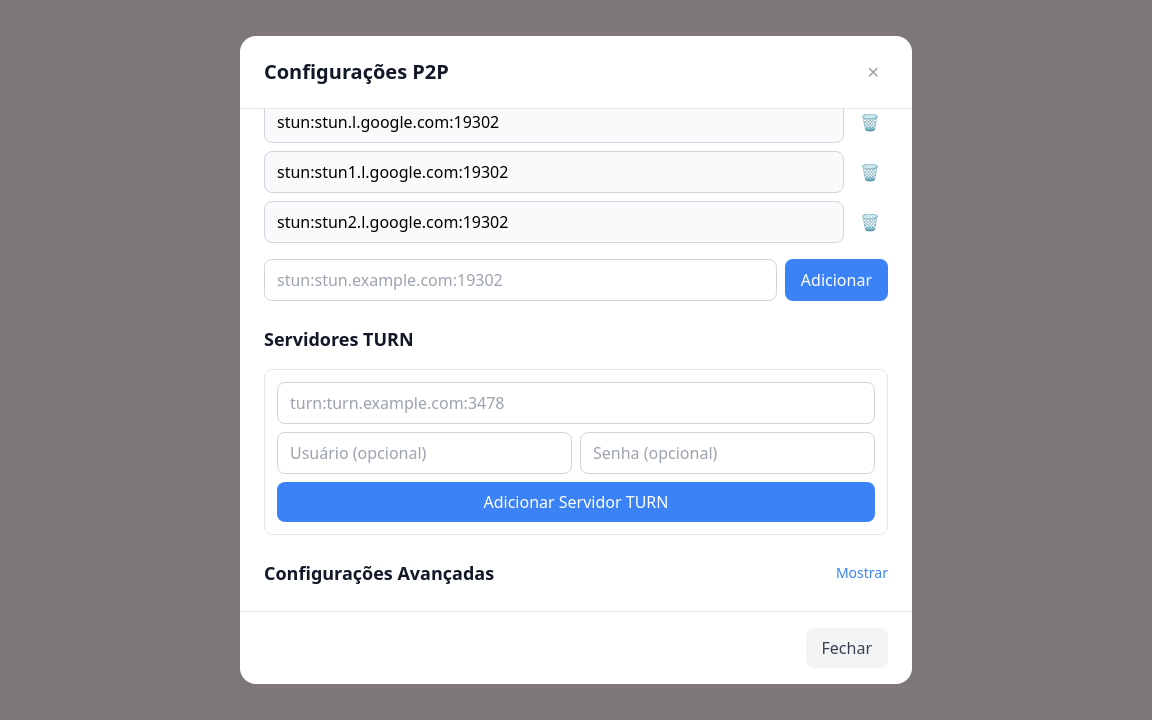
P2P Browser Compatibility › allows configuration of TURN servers for NAT traversal
(page scrolled)
Type "turn:relay.example.com:3478" into the field with placeholder "turn:turn.example.com:3478" at (576, 403), box [277,382,875,424]
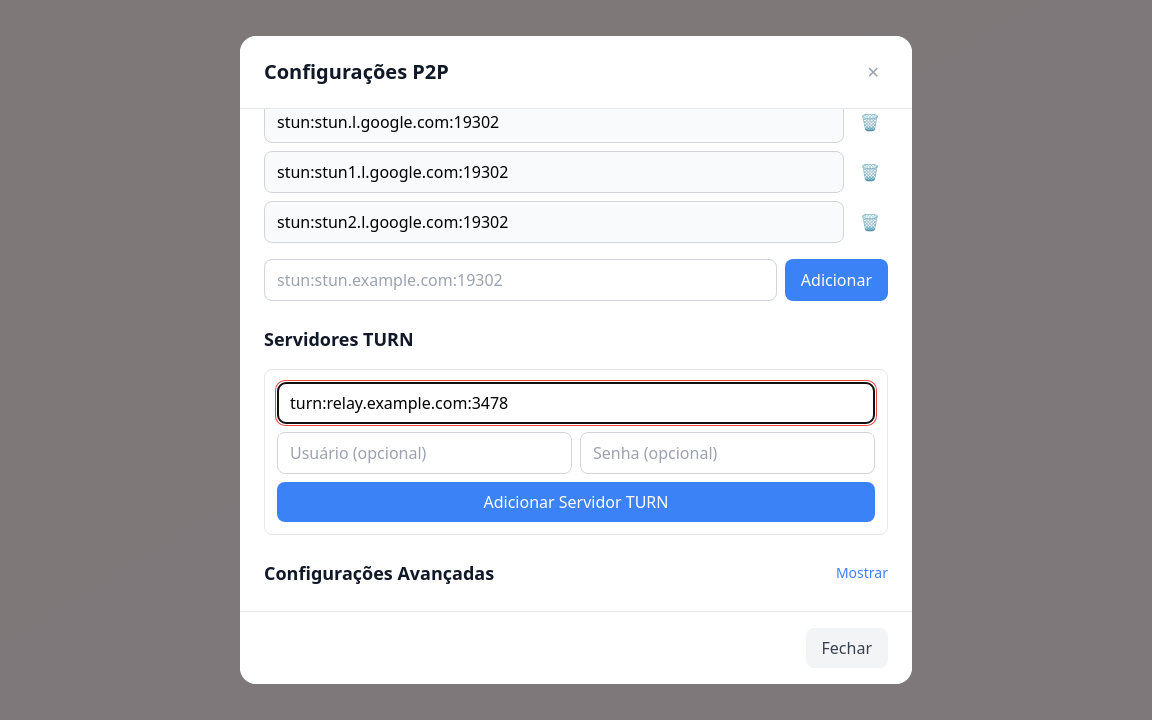
Type "testuser" into the field with placeholder "Usuário (opcional)" at (424, 453), box [277,432,572,474]
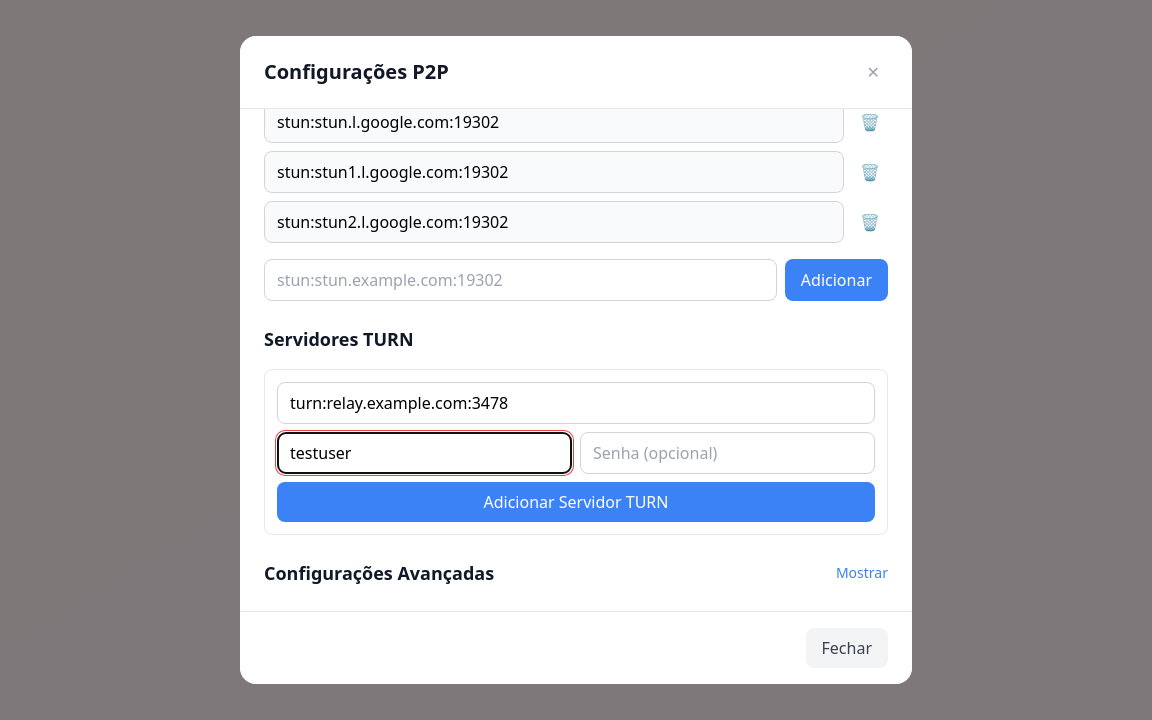
Click the button "Adicionar Servidor TURN" at (576, 502), box [277,482,875,522]
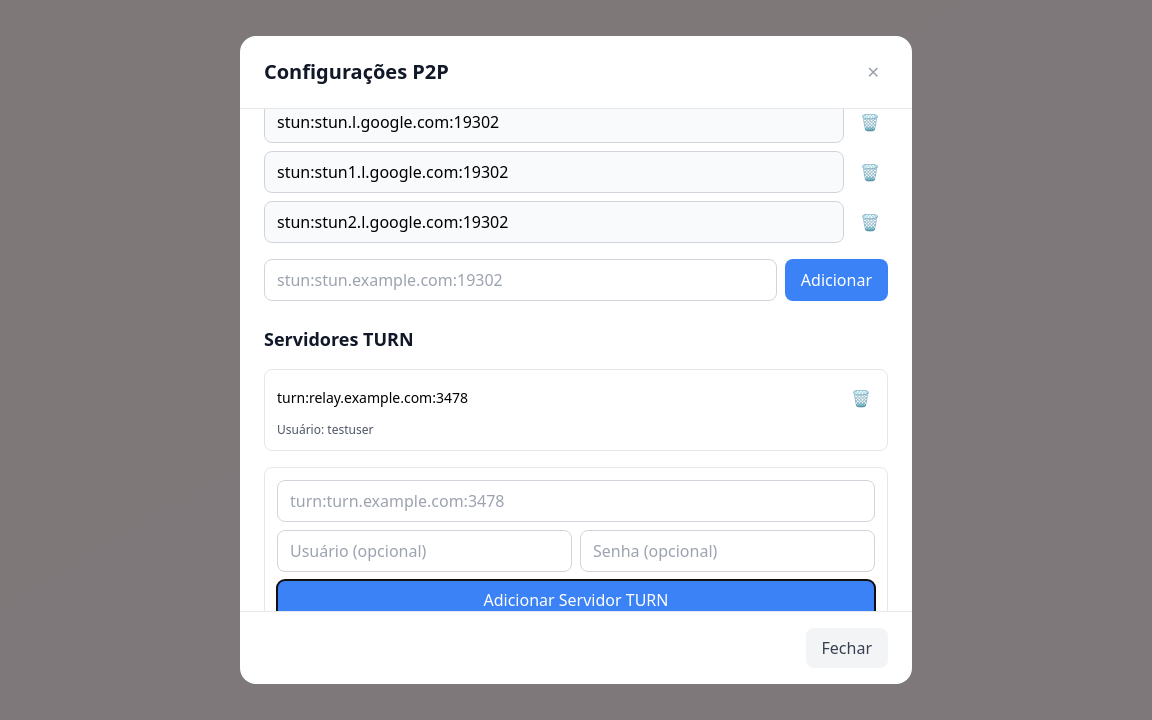
Check: the text "turn:relay.example.com:3478" is shown, box [277,388,468,408]
Check: the text "Usuário: testuser" is shown, box [277,421,373,438]
